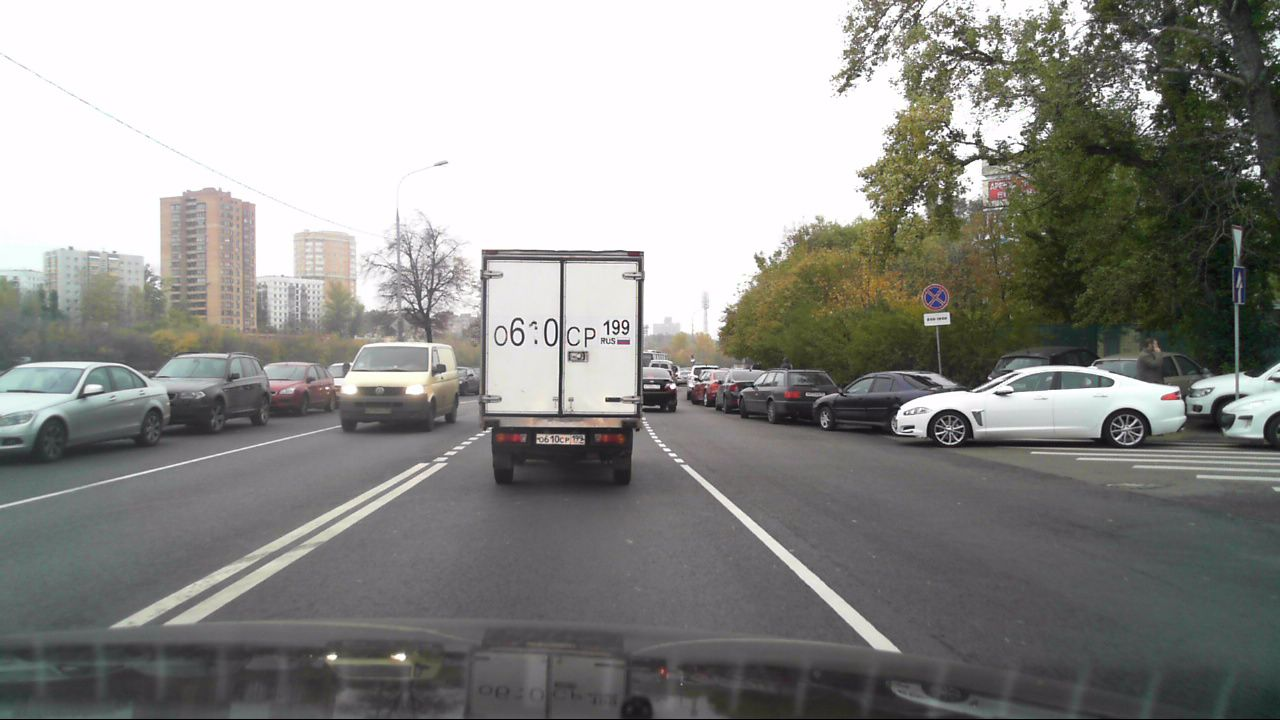No Parking: (922, 282, 948, 310)
